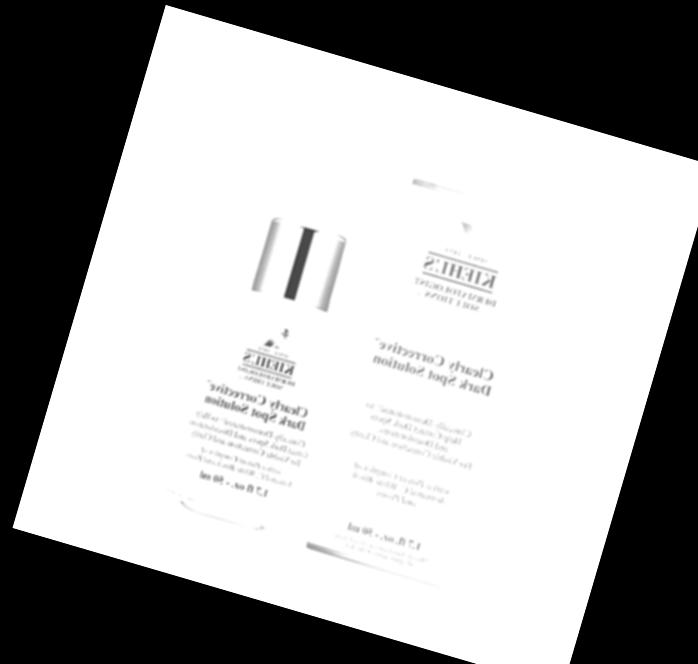cosmetic: (166, 144, 383, 526)
